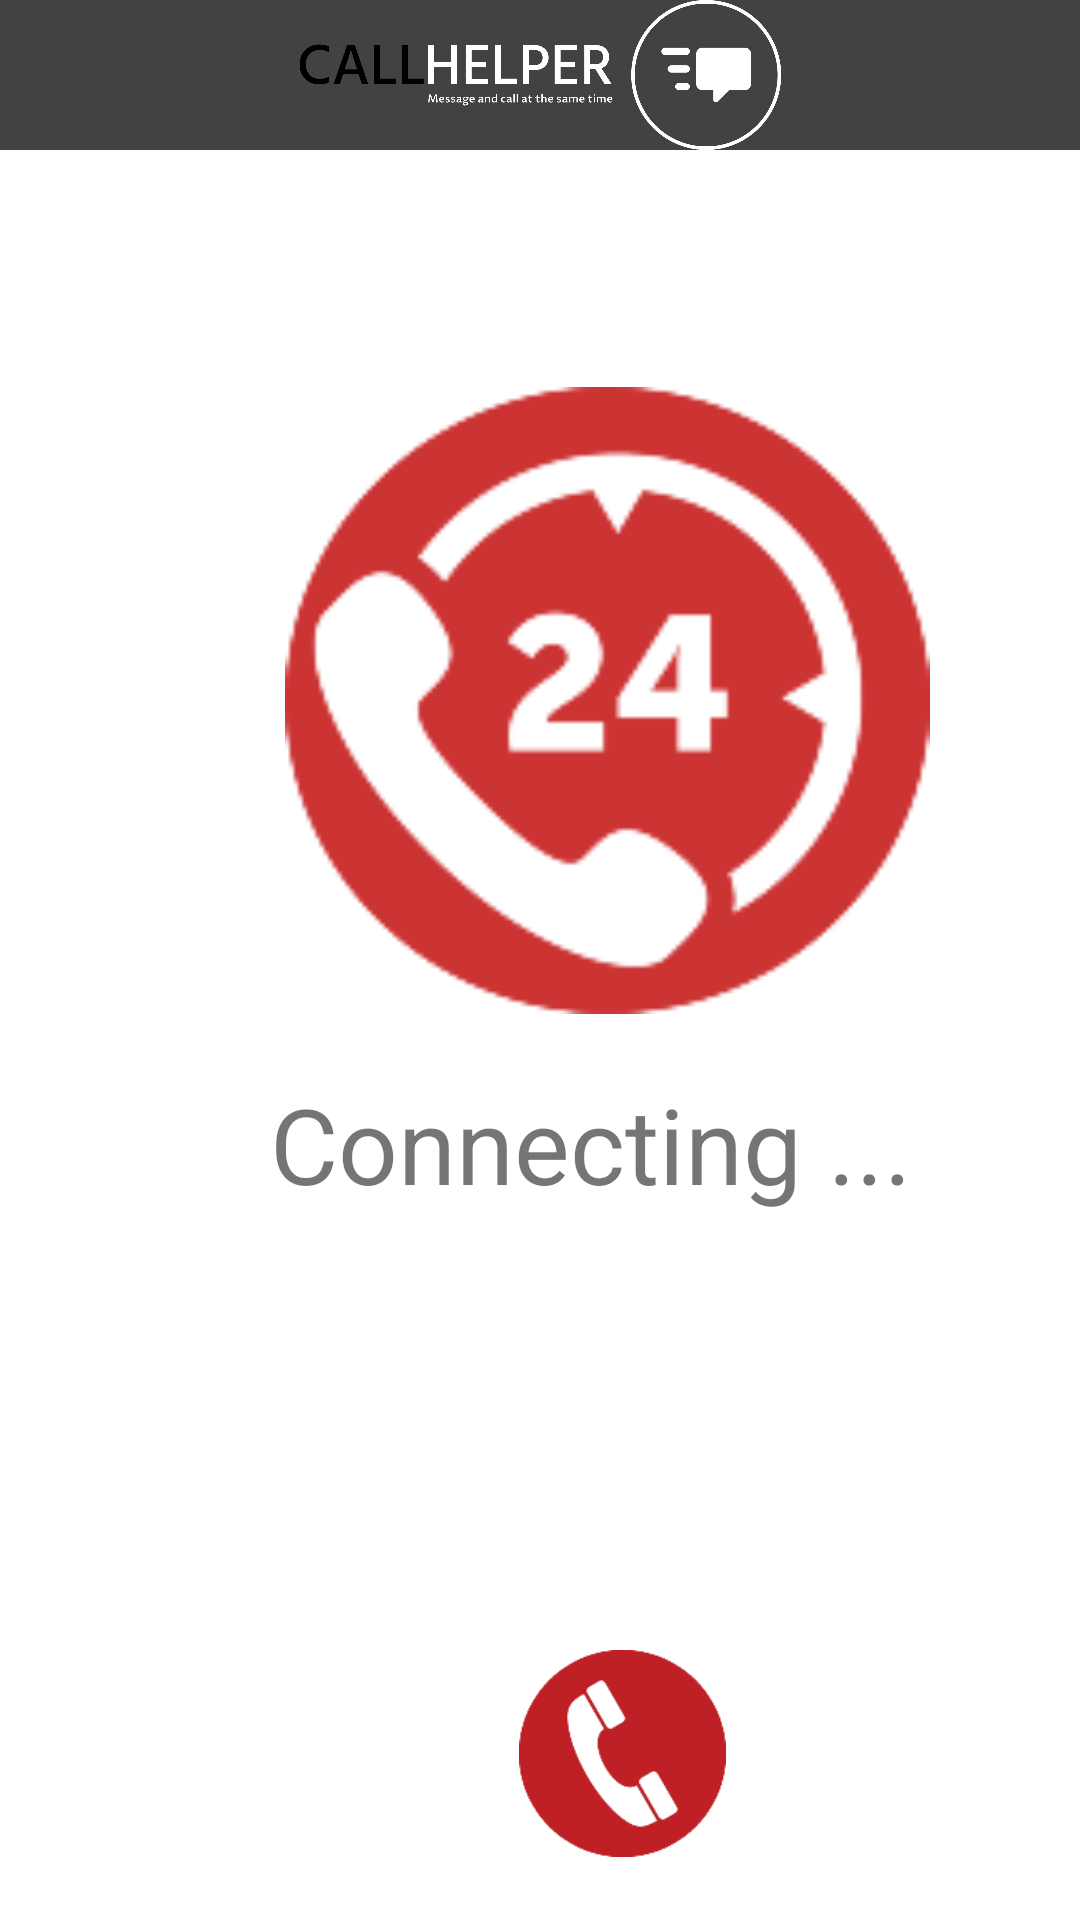

Where icons sit on this 1080x1920 app screen, as (x1, y1, x2, y2):
endcall: (519, 1650, 726, 1857)
